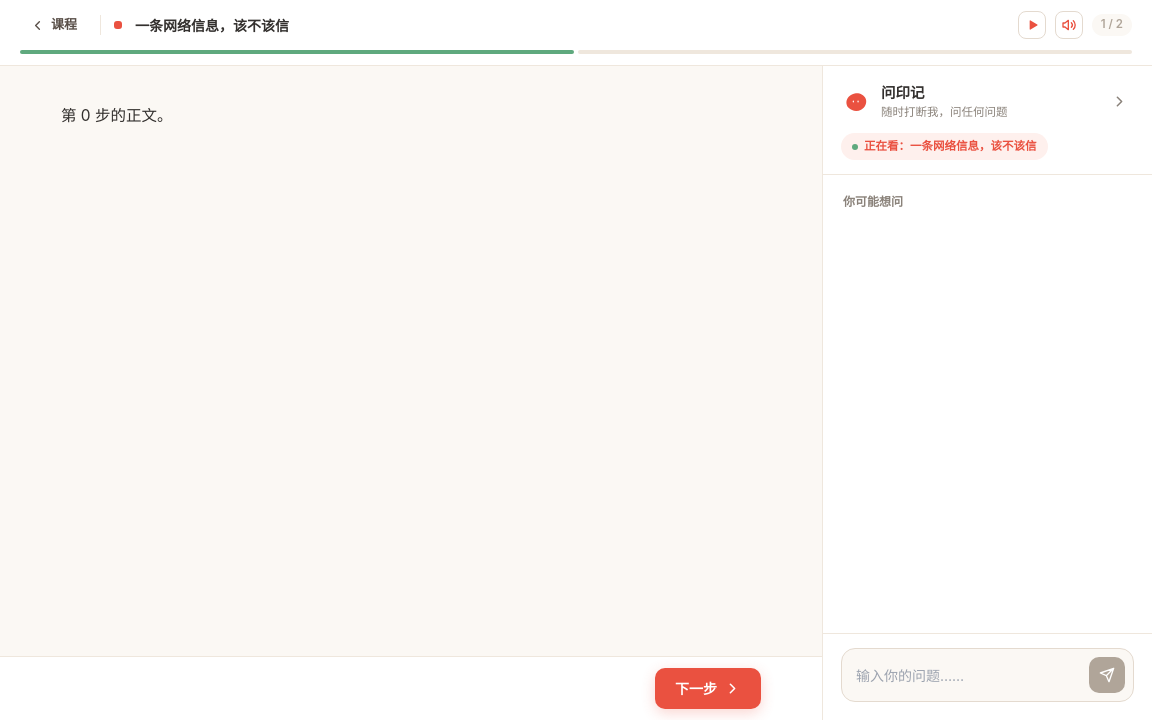
it: CoursePlayer Space state machine + click-to-continue across steps (Task 7) › Space falls through to continue once audio has ended
Expected: the text "第 0 步的正文。" is shown, [61, 106, 172, 125]
Click the button named "播放" at (1032, 25), box [1018, 11, 1046, 39]
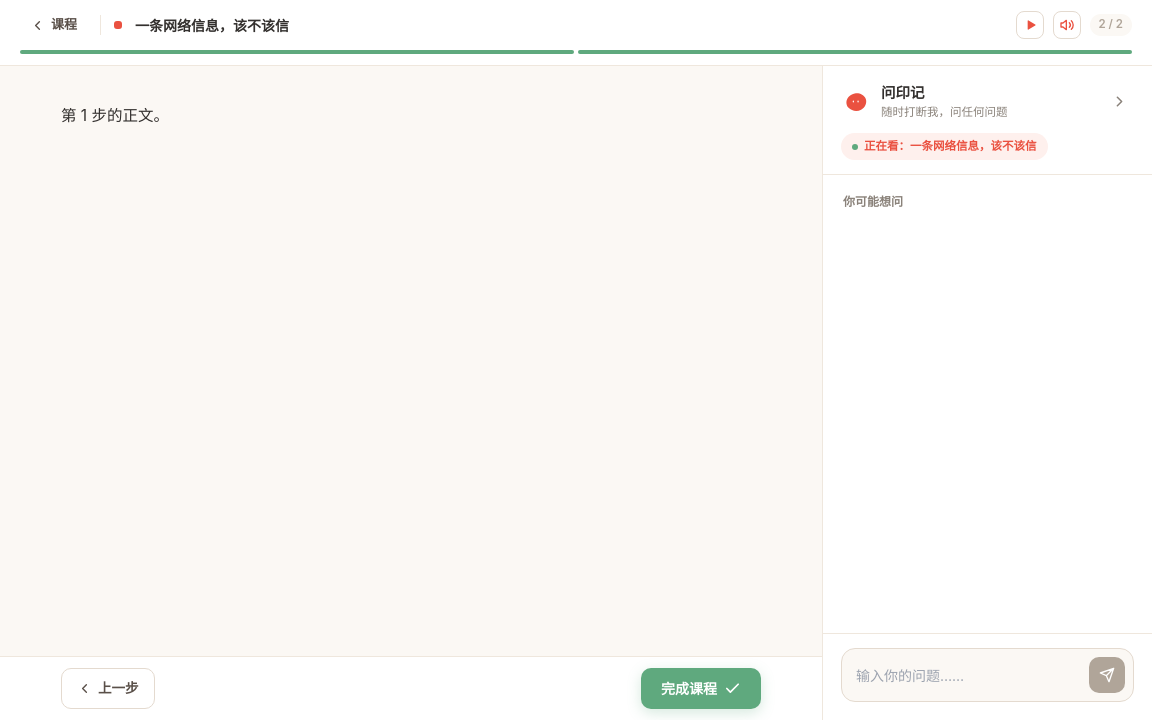
Expected: the text "第 1 步的正文。" is shown, [61, 106, 169, 125]
